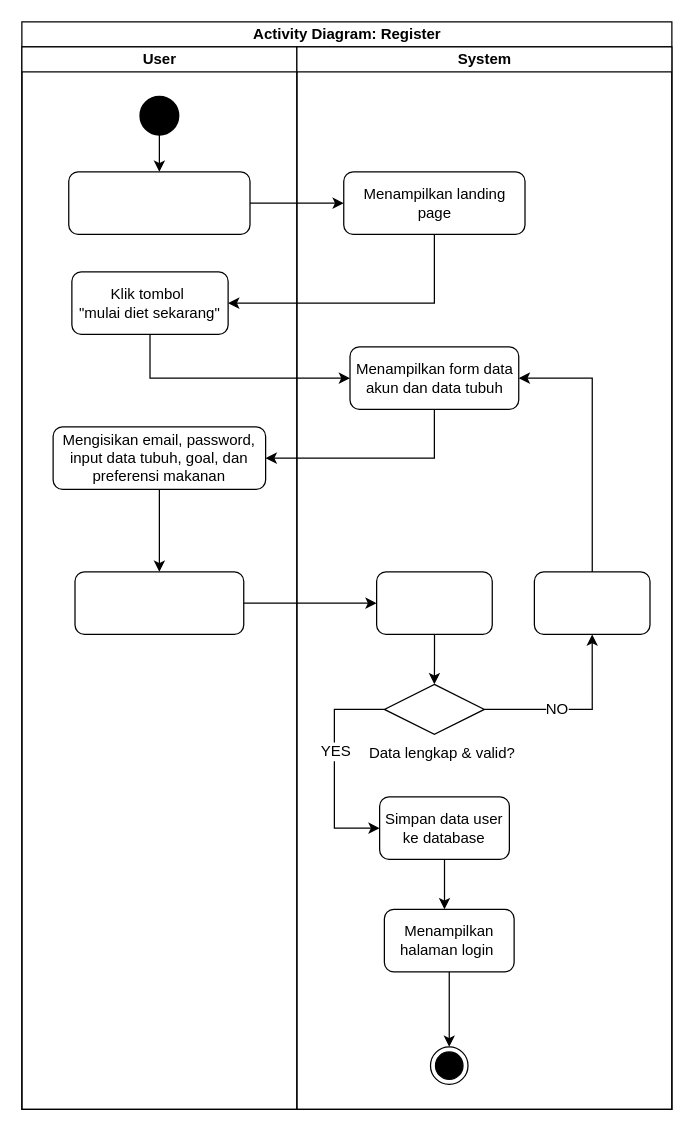
Image size: 694x1131. Some labels were removed from this diagram. Each missing label, with the box of its shape:
Klik tombol "Buat Akun Sekarang": (74, 571, 244, 634)
Membuka website sistem rekomendasi diet: (68, 171, 250, 234)
Menampilkan pesan error: (533, 571, 650, 634)
Validasi data: (375, 571, 492, 634)
